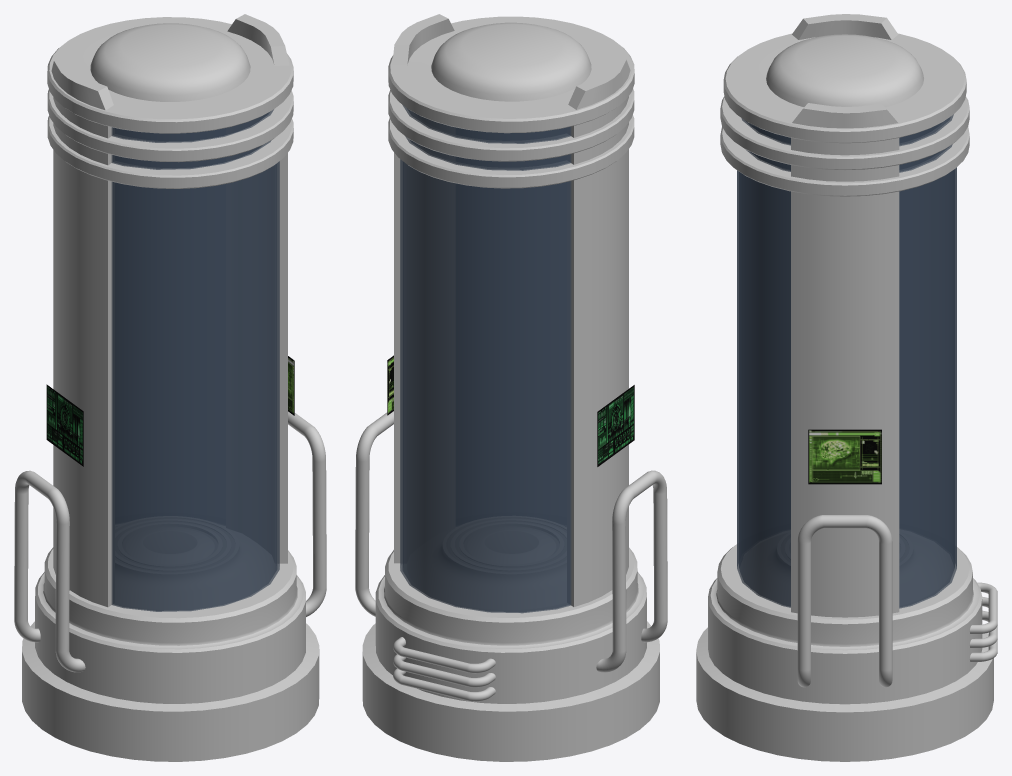
Rendered from stasis_chamber_empty.fbx.
3 views of the same model, side by side, from view 1: azimuth 30°, elevation 25°; view 2: azimuth 150°, elevation 25°; view 3: azimuth 270°, elevation 25° (orthographic).
Visible parts, largest first — view 1: Chamber, Glass; view 2: Chamber, Glass; view 3: Chamber, Glass.
Part boxes in pixels (x1,y1,x2,y2): Chamber: (14, 14, 326, 761); Glass: (111, 109, 279, 611); Chamber: (355, 14, 667, 761); Glass: (400, 105, 571, 613); Chamber: (696, 14, 997, 761); Glass: (737, 114, 956, 608).
Bounding box in the file's own units: 170 × 393 × 167.
